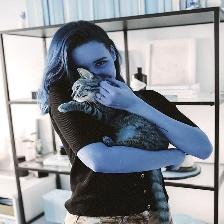kedo: (57, 68, 173, 224)
